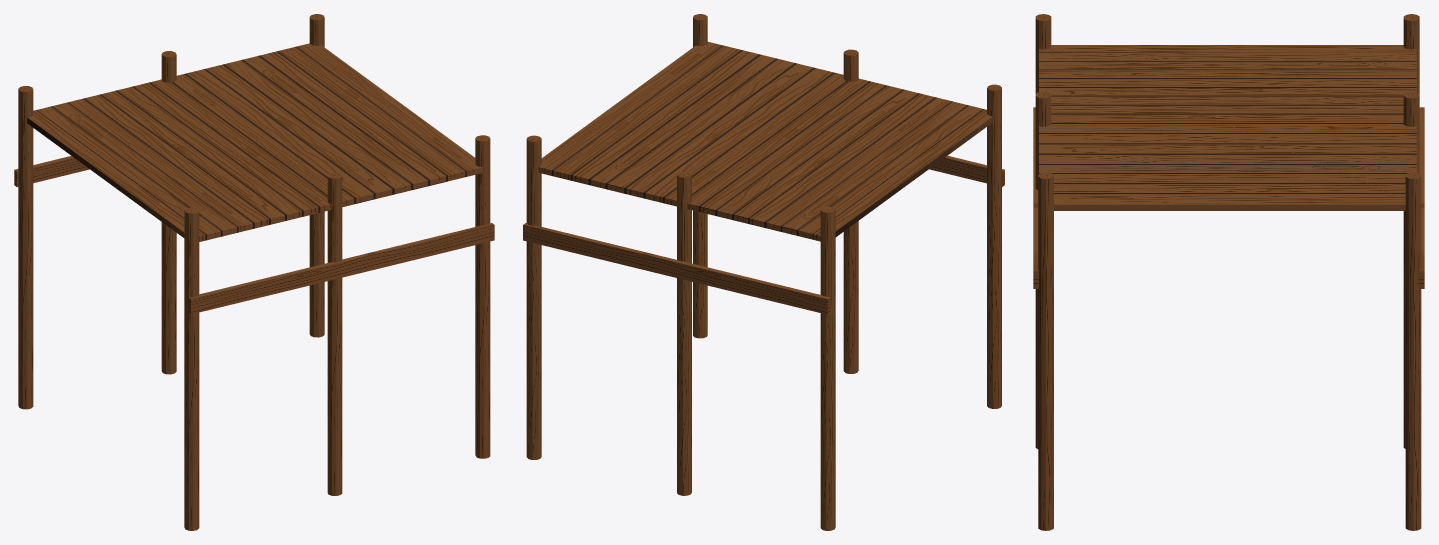
The model's file is Dock_Platform.fbx.
The picture shows the model from 3 angles, left to right: view 1: azimuth 30°, elevation 25°; view 2: azimuth 150°, elevation 25°; view 3: azimuth 270°, elevation 25°; orthographic projection. The views are drawn at different scales.
Parts seen in each view (by area): view 1: pCube1, Plank6, DockPost2, DockPost3, DockPost8, DockPost7, DockPost5, DockPost6, Plank5; view 2: pCube1, Plank5, DockPost2, DockPost6, DockPost3, DockPost5, DockPost8, DockPost7, Plank6; view 3: pCube1, DockPost6, DockPost7, DockPost5, DockPost8, Plank5, Plank6, DockPost3, DockPost2.
Part boxes in pixels (x1=…): pCube1: x1=27, y1=43, x2=482, y2=241; Plank6: x1=188, y1=223, x2=494, y2=314; DockPost2: x1=18, y1=86, x2=33, y2=409; DockPost3: x1=184, y1=207, x2=199, y2=530; DockPost8: x1=327, y1=172, x2=342, y2=495; DockPost7: x1=475, y1=135, x2=490, y2=458; DockPost5: x1=161, y1=51, x2=176, y2=374; DockPost6: x1=309, y1=14, x2=324, y2=337; Plank5: x1=14, y1=156, x2=89, y2=186; pCube1: x1=538, y1=42, x2=992, y2=241; Plank5: x1=523, y1=223, x2=830, y2=314; DockPost2: x1=820, y1=206, x2=835, y2=530; DockPost6: x1=526, y1=135, x2=541, y2=459; DockPost3: x1=987, y1=84, x2=1001, y2=408; DockPost5: x1=677, y1=171, x2=691, y2=495; DockPost8: x1=843, y1=49, x2=858, y2=373; DockPost7: x1=693, y1=14, x2=707, y2=338; Plank6: x1=929, y1=155, x2=1004, y2=186; pCube1: x1=1039, y1=45, x2=1416, y2=210; DockPost6: x1=1405, y1=172, x2=1421, y2=530; DockPost7: x1=1038, y1=172, x2=1053, y2=530; DockPost5: x1=1403, y1=91, x2=1419, y2=448; DockPost8: x1=1035, y1=91, x2=1051, y2=448; Plank5: x1=1419, y1=107, x2=1424, y2=288; Plank6: x1=1033, y1=107, x2=1038, y2=288; DockPost3: x1=1035, y1=14, x2=1051, y2=93; DockPost2: x1=1403, y1=14, x2=1419, y2=93.
Size of the model in its own units: 28.56 by 28.38 by 28.63.
2 materials, 2 textured.
